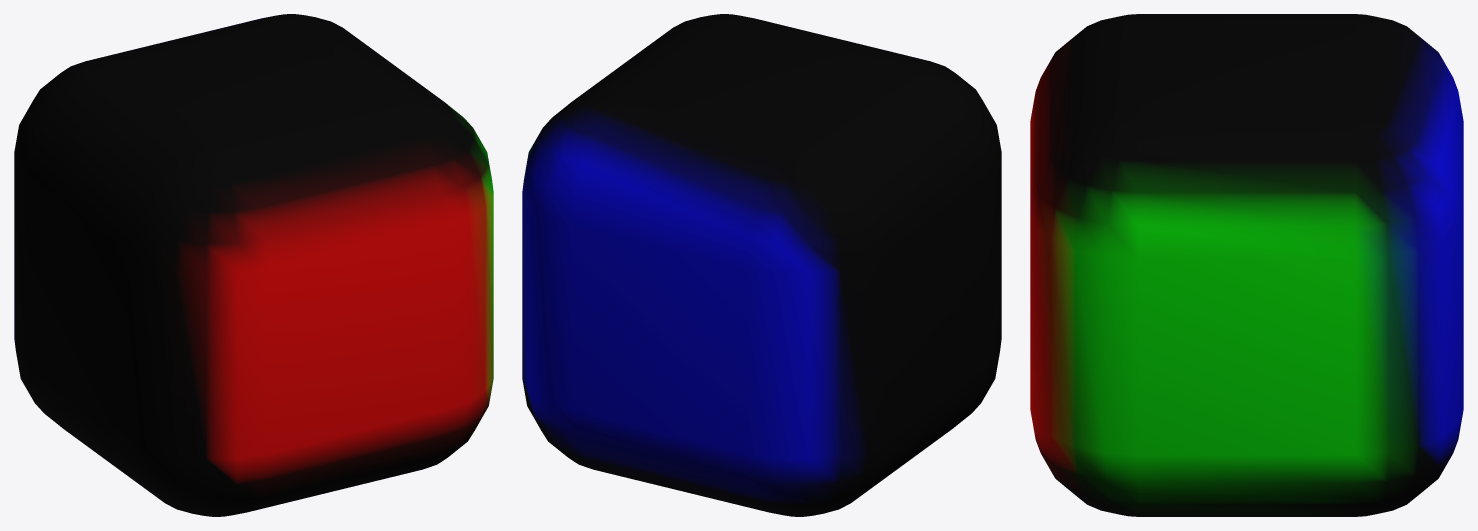
3 renders of one model, left to right at view 1: azimuth 30°, elevation 25°; view 2: azimuth 150°, elevation 25°; view 3: azimuth 270°, elevation 25°, orthographic. The views are drawn at different scales.
Parts seen in each view (by area): view 1: ChamferBox001; view 2: ChamferBox001; view 3: ChamferBox001.
Boxes of the visible parts, left/top/right/bottom form: ChamferBox001: left=14, top=14, right=493, bottom=516; ChamferBox001: left=522, top=14, right=1001, bottom=516; ChamferBox001: left=1030, top=14, right=1463, bottom=516.
Bounding box in the file's own units: 254 × 254 × 254.
